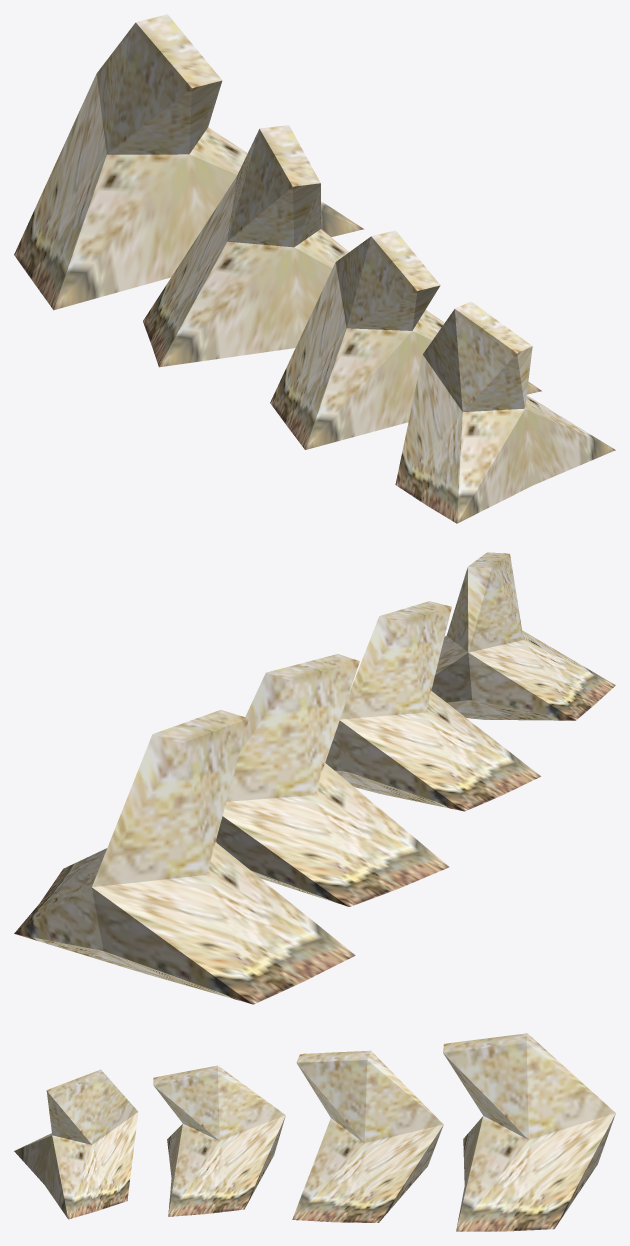
File: poi_tato_skel_grtr_krayt_spine_s01_l0.fbx
3 views of the same model, one above another, from view 1: azimuth 30°, elevation 25°; view 2: azimuth 150°, elevation 25°; view 3: azimuth 270°, elevation 25° (orthographic). The views are drawn at different scales.
Visible parts, largest first — view 1: mesh_node; view 2: mesh_node; view 3: mesh_node.
Boxes of the visible parts, left/top/right/bottom form: mesh_node: left=14, top=14, right=615, bottom=523; mesh_node: left=14, top=552, right=615, bottom=1004; mesh_node: left=14, top=1033, right=615, bottom=1231.
Size of the model in its own units: 1.5 by 1.12 by 3.82.
1 material, 1 textured.
